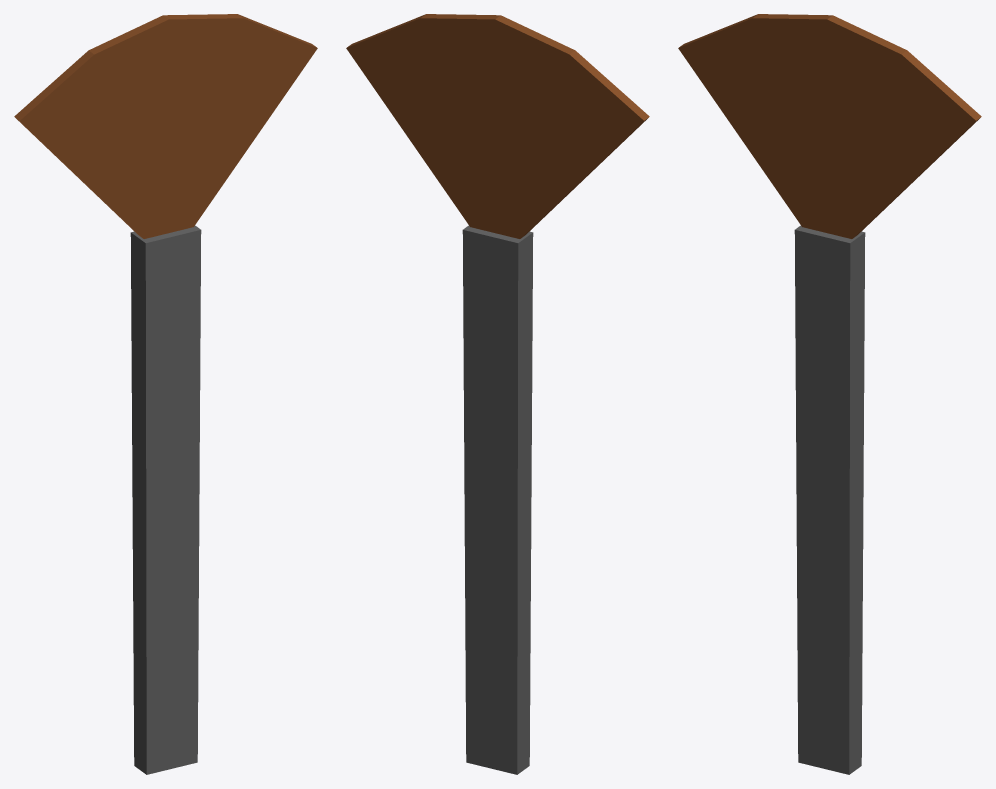
The model's file is FanBrush1.glb.
3 renders of one model, left to right at view 1: azimuth 30°, elevation 25°; view 2: azimuth 150°, elevation 25°; view 3: azimuth 330°, elevation 25°, orthographic.
Parts seen in each view (by area): view 1: FanBrush1; view 2: FanBrush1; view 3: FanBrush1.
Boxes of the visible parts, left/top/right/bottom form: FanBrush1: left=14, top=14, right=317, bottom=774; FanBrush1: left=346, top=14, right=649, bottom=774; FanBrush1: left=678, top=14, right=981, bottom=774.
Size of the model in its own units: 0.1417 by 0.3392 by 0.0123.
